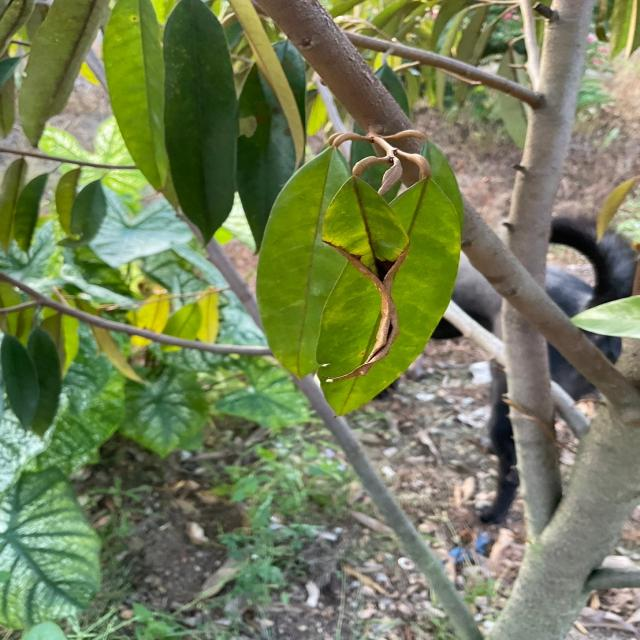Leaf Blight: (325, 177, 409, 369)
Leaf Spot: (120, 12, 145, 26)
